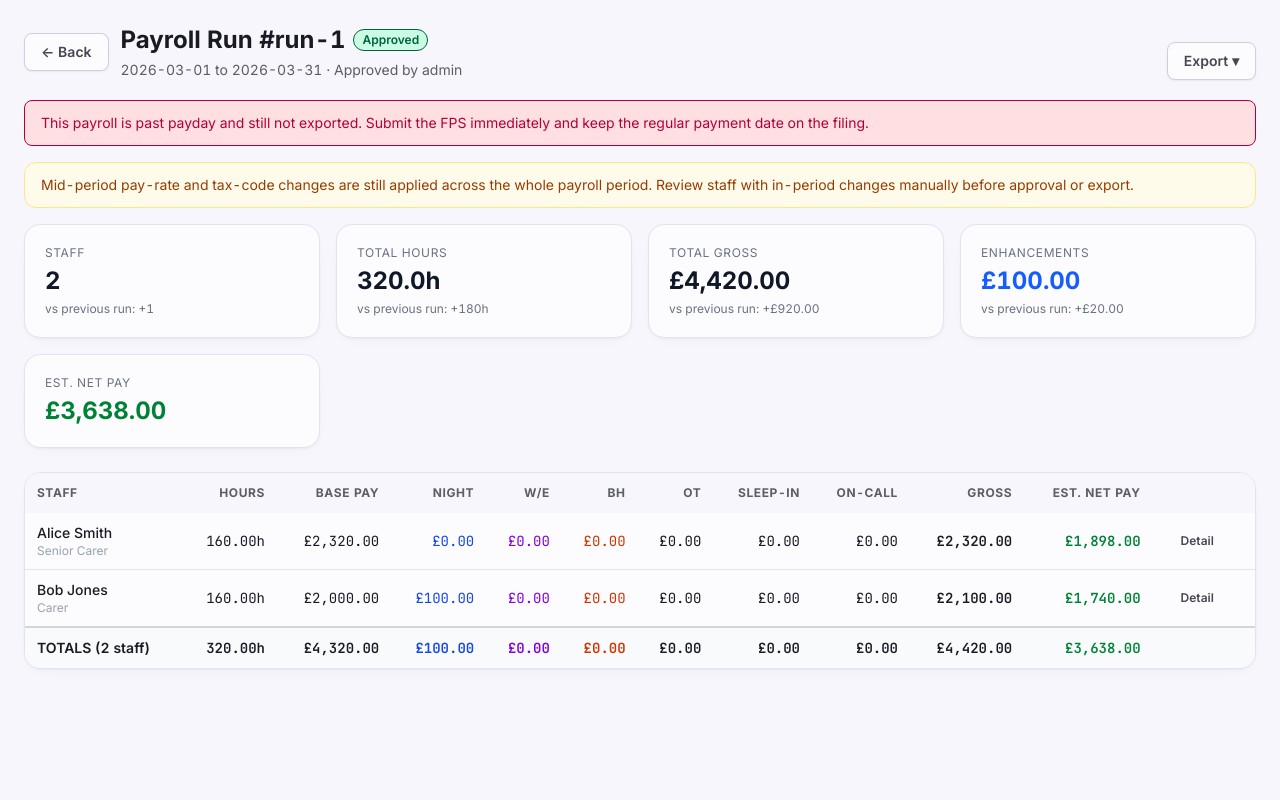
Test case: PayrollDetail › opens the export dropdown menu with all export options
The width and height of the screenshot is (1280, 800).
Click the button "Export ▾" at (1211, 61), box [1167,42,1256,80]
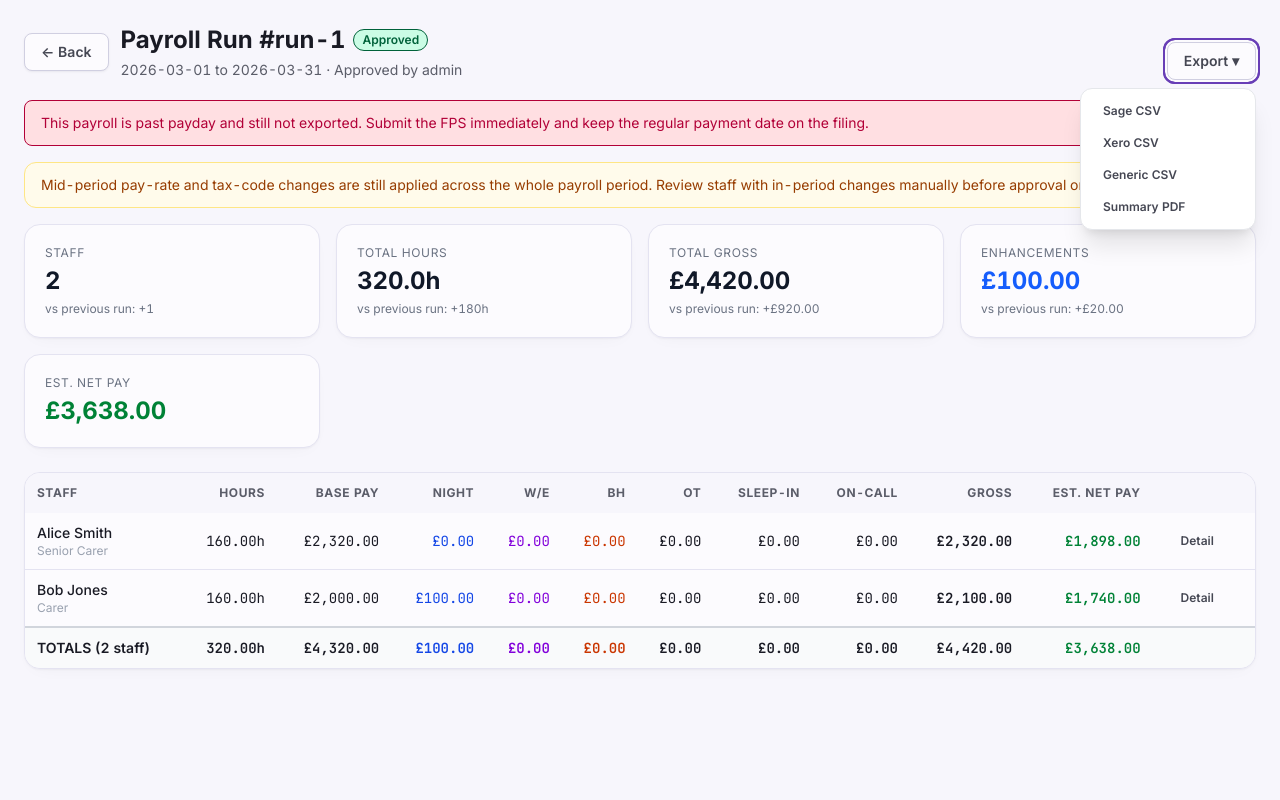
Expected: the button "Sage CSV" is shown, [1087,95,1249,127]
Expected: the button "Xero CSV" is shown, [1087,127,1249,159]
Expected: the button "Generic CSV" is shown, [1087,159,1249,191]
